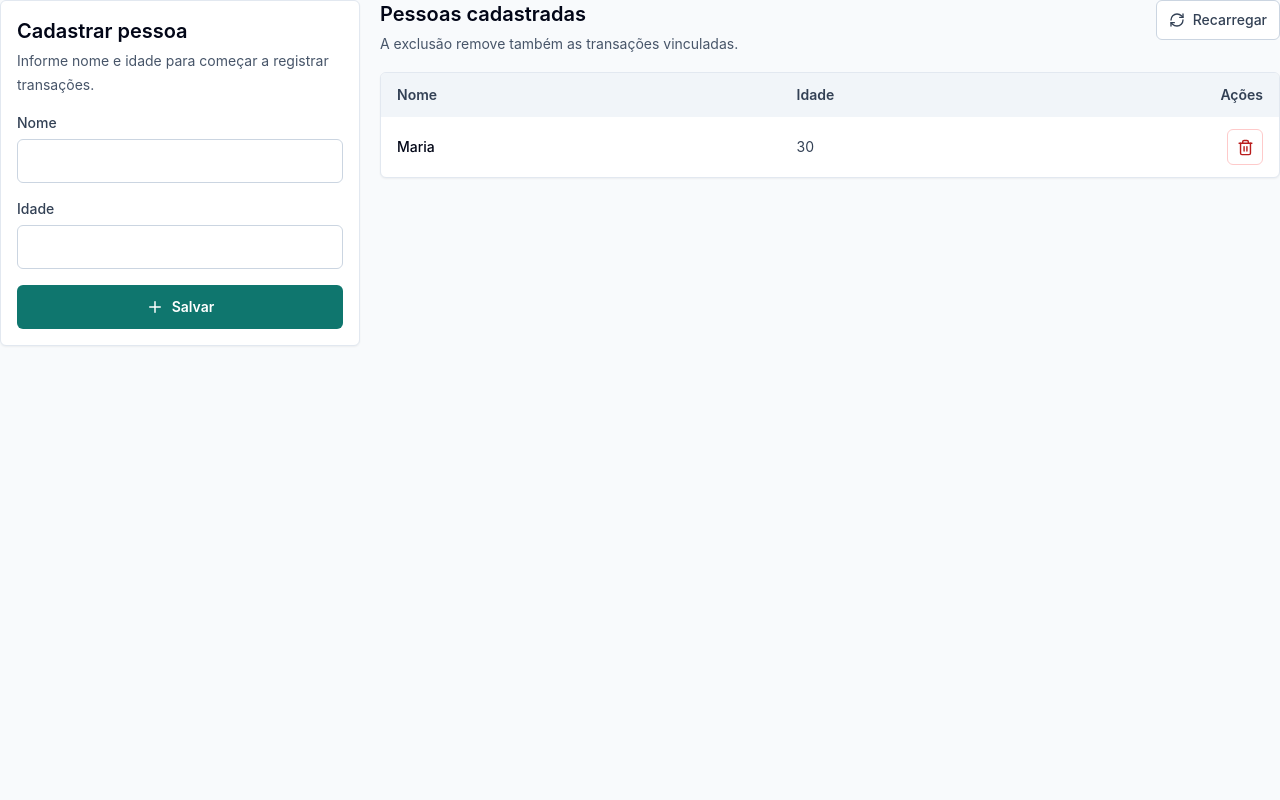
Test: PessoasPage › nao exclui pessoa quando o modal e cancelado
This screenshot has width=1280, height=800.
Click the button titled "Excluir Maria" at (1245, 147), box 1227,129 -> 1263,165
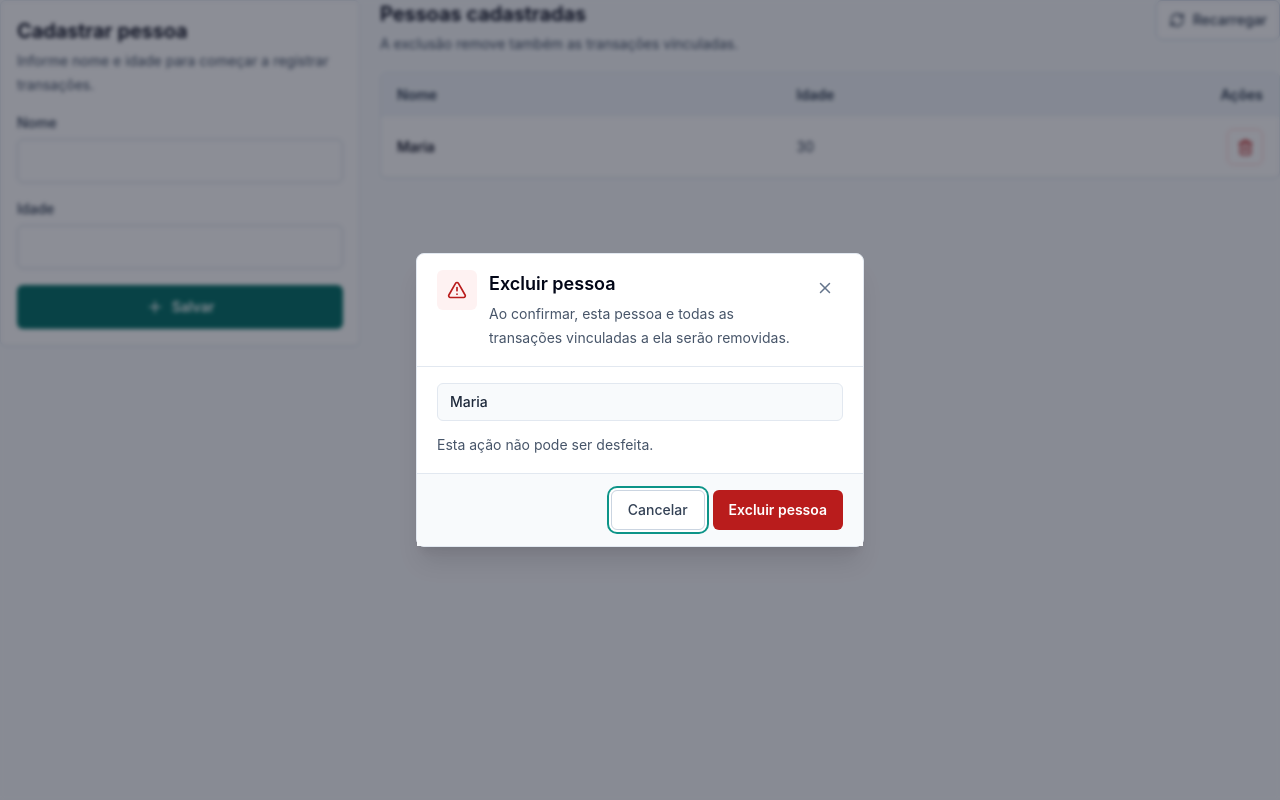
Click the button "Cancelar" at (658, 510), box 611,490 -> 705,530
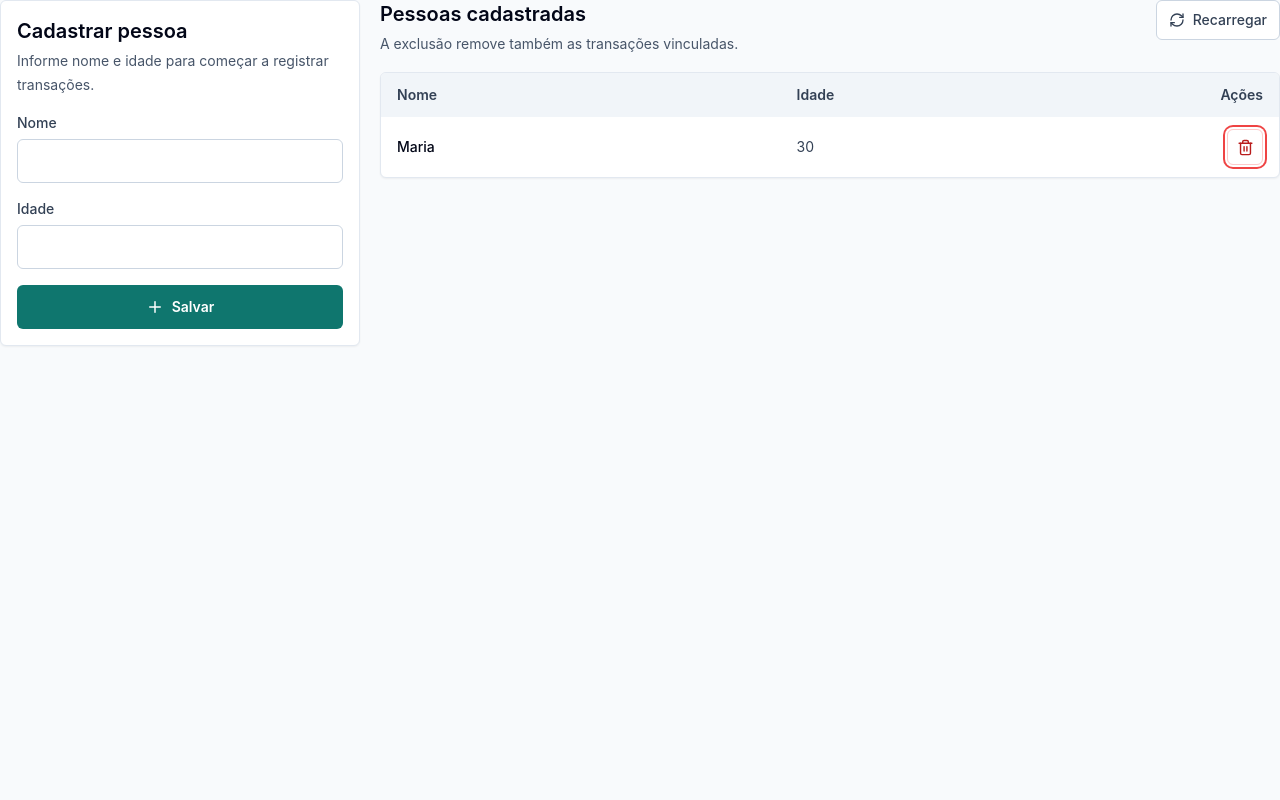
expect the heading "Excluir pessoa" is gone: met
